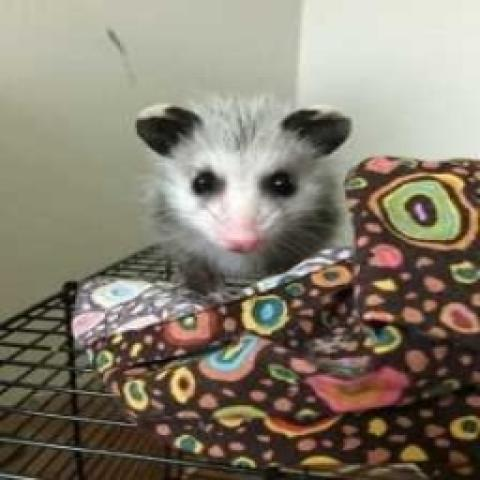small_animal: (133, 90, 353, 291)
